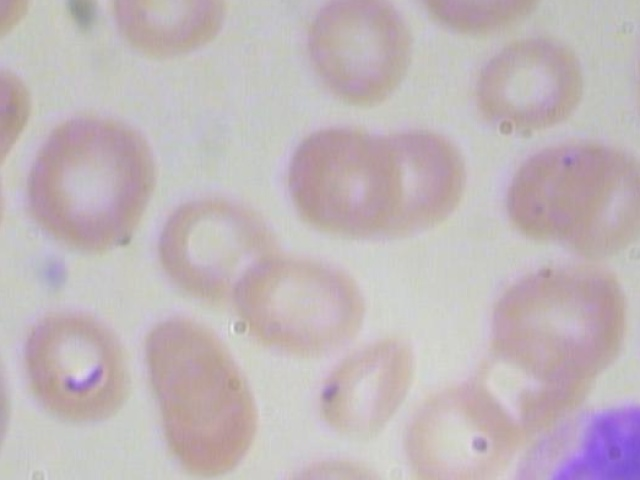RBC: (21, 98, 164, 262), (228, 239, 371, 367), (147, 182, 290, 310), (5, 293, 148, 421), (488, 257, 633, 379), (274, 112, 405, 237), (299, 317, 430, 441), (387, 377, 533, 480), (289, 0, 420, 110), (370, 117, 485, 242), (498, 132, 618, 249), (469, 34, 599, 141), (133, 309, 251, 419), (149, 374, 267, 480), (551, 145, 640, 262), (109, 0, 226, 59), (388, 0, 567, 36), (635, 0, 640, 157)
WBC: (491, 398, 640, 480)
